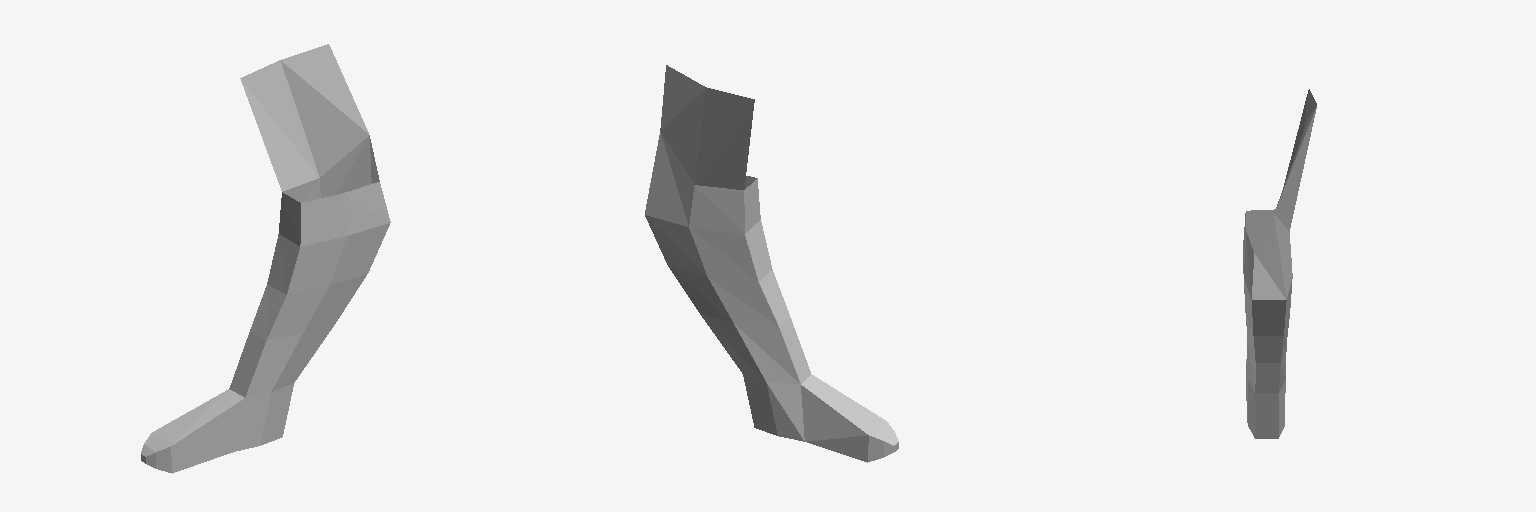
File: DerFront.obj
The picture shows the model from 3 angles: view 1: azimuth 30°, elevation 25°; view 2: azimuth 150°, elevation 25°; view 3: azimuth 270°, elevation 25°; orthographic projection.
Parts seen in each view (by area): view 1: Tigre:Mesh1; view 2: Tigre:Mesh1; view 3: Tigre:Mesh1.
Part boxes in pixels (bbox=[...]): Tigre:Mesh1: bbox=[141, 44, 390, 473]; Tigre:Mesh1: bbox=[645, 65, 898, 462]; Tigre:Mesh1: bbox=[1243, 89, 1316, 438].
Size of the model in its own units: 0.551 by 0.7876 by 0.1477.